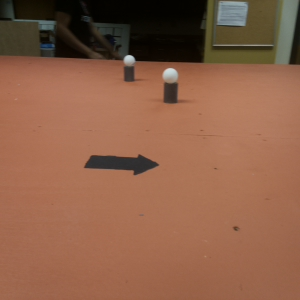obstacle: (162, 68, 179, 104), (123, 55, 137, 82)
start: (85, 152, 159, 177)
